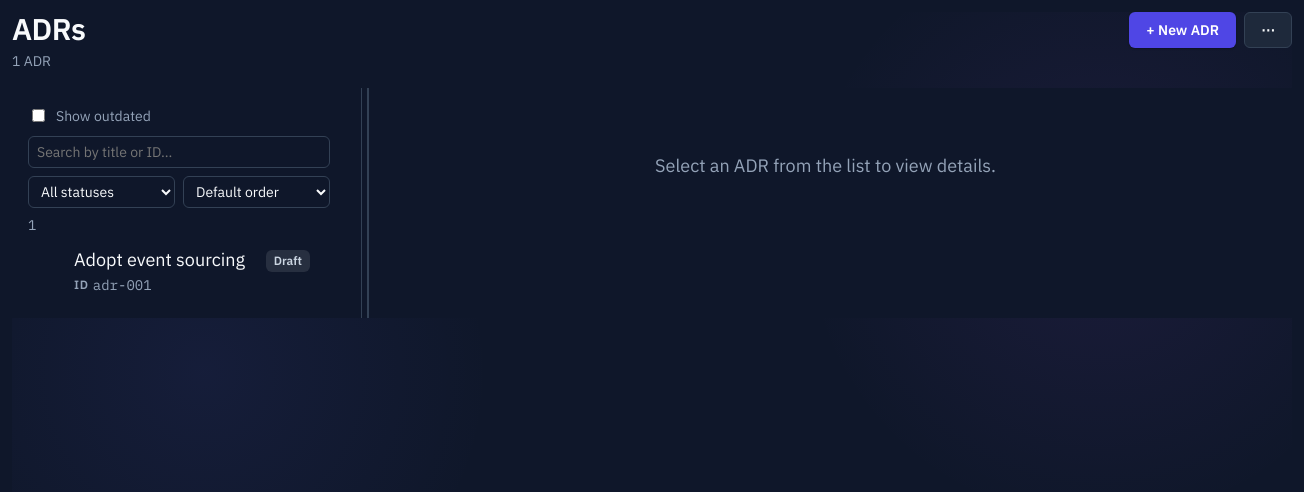
Test: AdrEditors Task 2.1 concept remodel (PageHeader / ArtifactRow / Dialog / EmptyState) › shows the no-match variant with only a reset-filters action when the filter matches nothing
Type "no such adr title" into the search field with test id "adr-list-search-input".
click(179, 152); type("no such adr title")  # box [28,136,330,168]
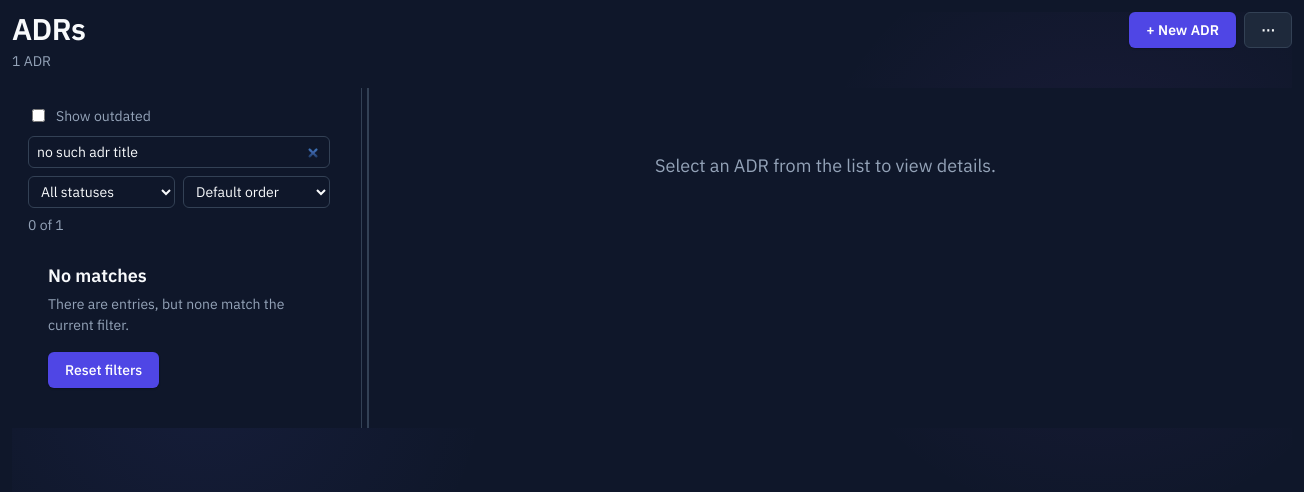
Expected: the element with test id "adr-list-no-match" is shown, [48,264,284,388]
Expected: the button with test id "adr-list-no-match-reset-filters" is shown, [48,352,159,388]
